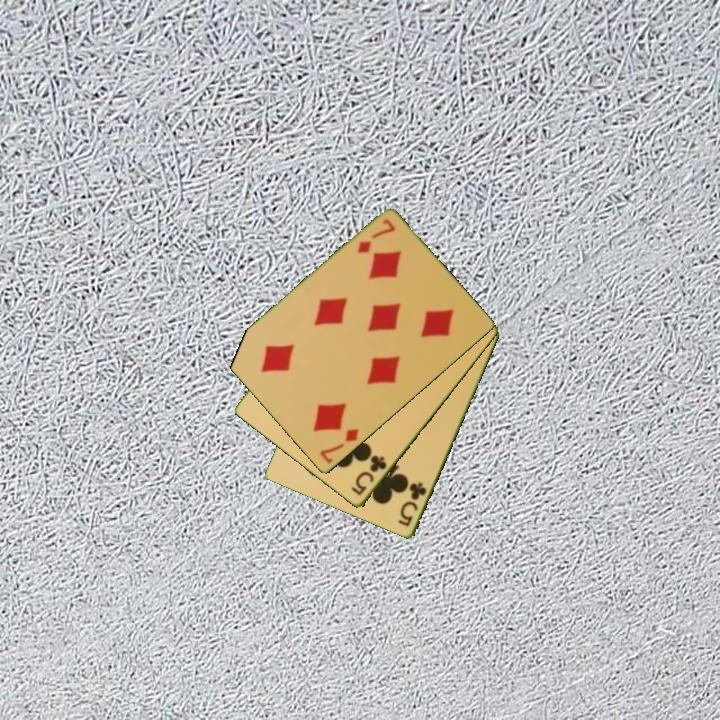5c: (348, 452, 390, 499), (394, 479, 430, 530)
7d: (316, 425, 362, 467), (354, 216, 398, 257)
